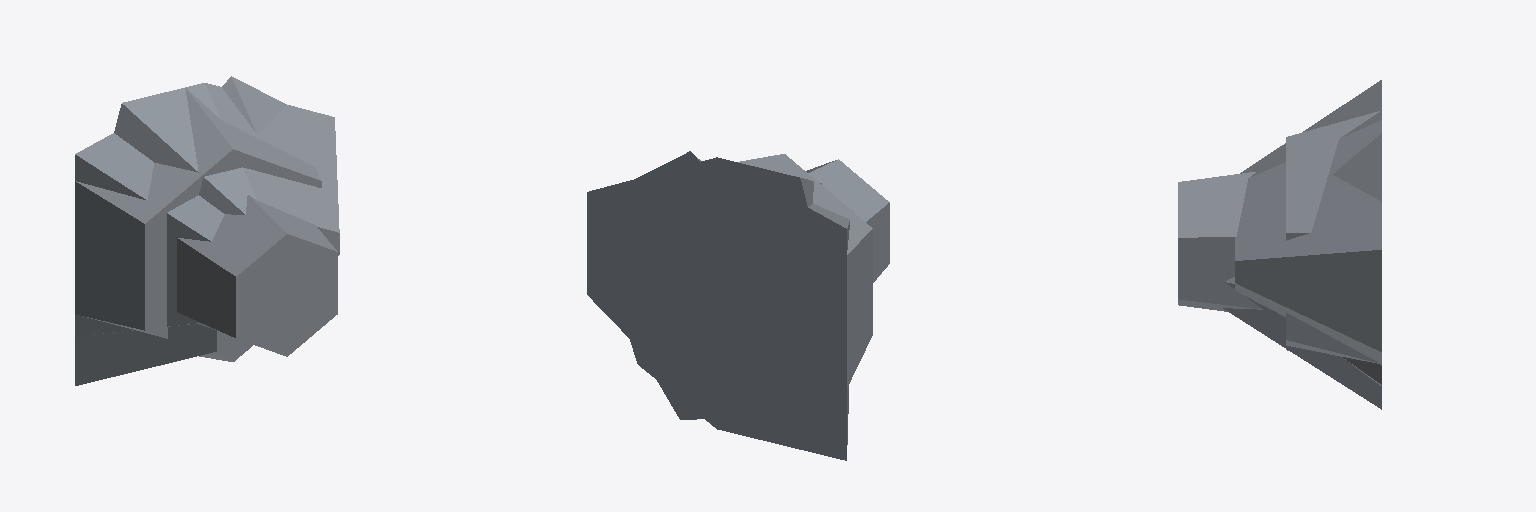
The model's file is rock.obj.
3 views of the same model, side by side, from view 1: azimuth 30°, elevation 25°; view 2: azimuth 150°, elevation 25°; view 3: azimuth 270°, elevation 25° (orthographic).
Visible parts, largest first — view 1: Mesh1_Rock_3_Model, Mesh1_Rock_5_Model, Mesh1_Rock_4_Model, Mesh1_Rock_6_Model; view 2: Mesh1_Rock_3_Model, Mesh1_Rock_6_Model, Mesh1_Rock_5_Model, Mesh1_Rock_4_Model; view 3: Mesh1_Rock_5_Model, Mesh1_Rock_3_Model, Mesh1_Rock_4_Model, Mesh1_Rock_6_Model.
Boxes of the visible parts, x1,y1,x2,y2 form: Mesh1_Rock_3_Model: [75, 88, 337, 361]; Mesh1_Rock_5_Model: [75, 83, 339, 385]; Mesh1_Rock_4_Model: [75, 133, 224, 336]; Mesh1_Rock_6_Model: [222, 76, 286, 134]; Mesh1_Rock_3_Model: [626, 154, 889, 428]; Mesh1_Rock_6_Model: [587, 151, 845, 428]; Mesh1_Rock_5_Model: [587, 157, 848, 460]; Mesh1_Rock_4_Model: [587, 159, 853, 419]; Mesh1_Rock_5_Model: [1235, 80, 1381, 364]; Mesh1_Rock_3_Model: [1178, 111, 1379, 363]; Mesh1_Rock_4_Model: [1223, 277, 1381, 409]; Mesh1_Rock_6_Model: [1333, 133, 1381, 385].
Bounding box in the file's own units: 7.73 × 7.73 × 5.25.